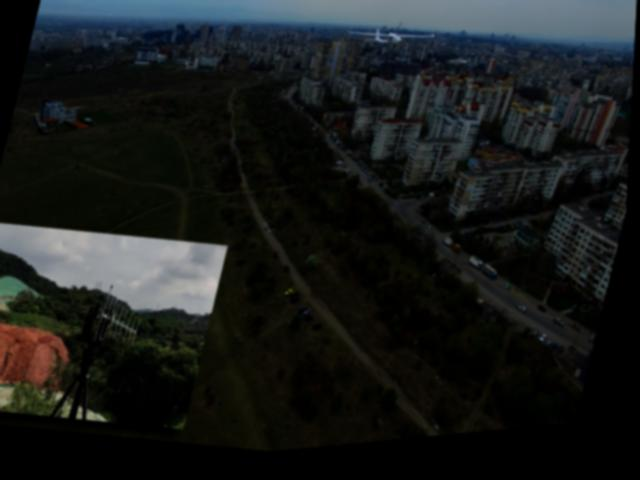plane: (342, 25, 438, 66)
